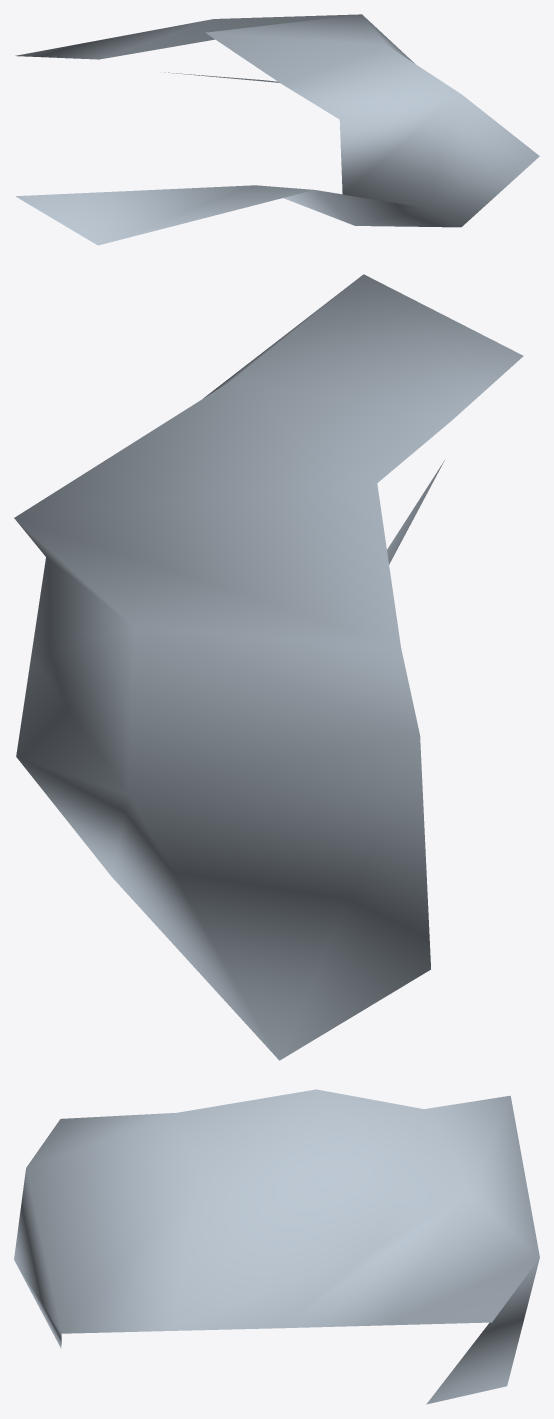
Rendered from articular-capsule-of-acromioclavicular-joint-l.glb.
3 views of the same model, one above another, from view 1: azimuth 30°, elevation 25°; view 2: azimuth 150°, elevation 25°; view 3: azimuth 270°, elevation 25° (orthographic). The views are drawn at different scales.
Parts seen in each view (by area): view 1: Articular capsule of acromioclavicular joint.l; view 2: Articular capsule of acromioclavicular joint.l; view 3: Articular capsule of acromioclavicular joint.l.
Part boxes in pixels (left/top/right/bottom): Articular capsule of acromioclavicular joint.l: left=15, top=14, right=539, bottom=245; Articular capsule of acromioclavicular joint.l: left=14, top=274, right=523, bottom=1060; Articular capsule of acromioclavicular joint.l: left=14, top=1089, right=539, bottom=1404.
Size of the model in its own units: 0.028 by 0.0212 by 0.0325.
